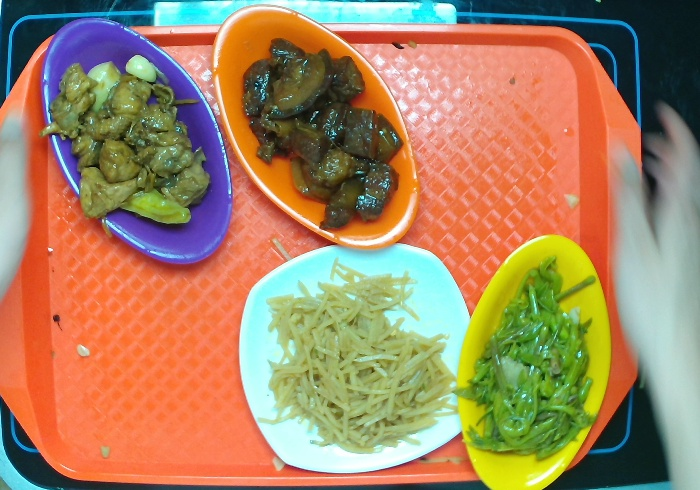RJxy-Fen_Hong_Tuo_Yuan: (38, 12, 237, 268)
RJxy-Huang_Se_Tuo_Yuan: (453, 229, 615, 490)
RJxy-Ju_Huang_Tuo_Yuan: (199, 1, 425, 254)
RJxy-Si_Fang_Die: (232, 235, 478, 475)
